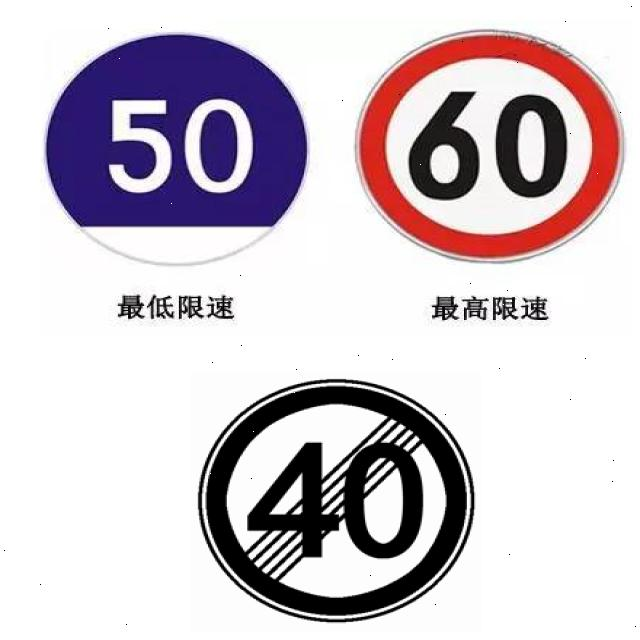speed limit 50: (44, 36, 307, 267)
speed limit 60: (350, 27, 625, 263)
